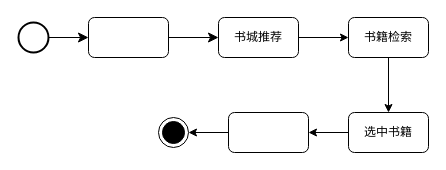
This 446x170 diagram has some shape labels left out. The shapes that lost their labels are listed below. From the top down, each one's centre as x and y in pixels, then its label:
point (128, 37): 登录系统
point (268, 132): 书籍阅读
